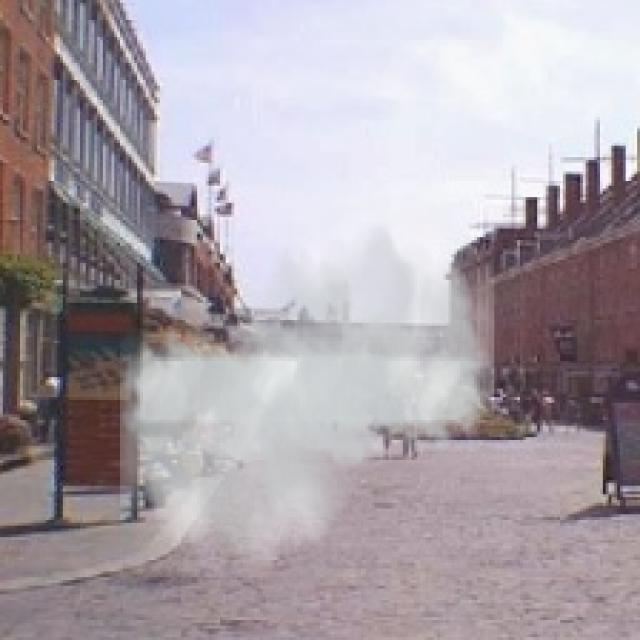smoke: (120, 203, 494, 577)
